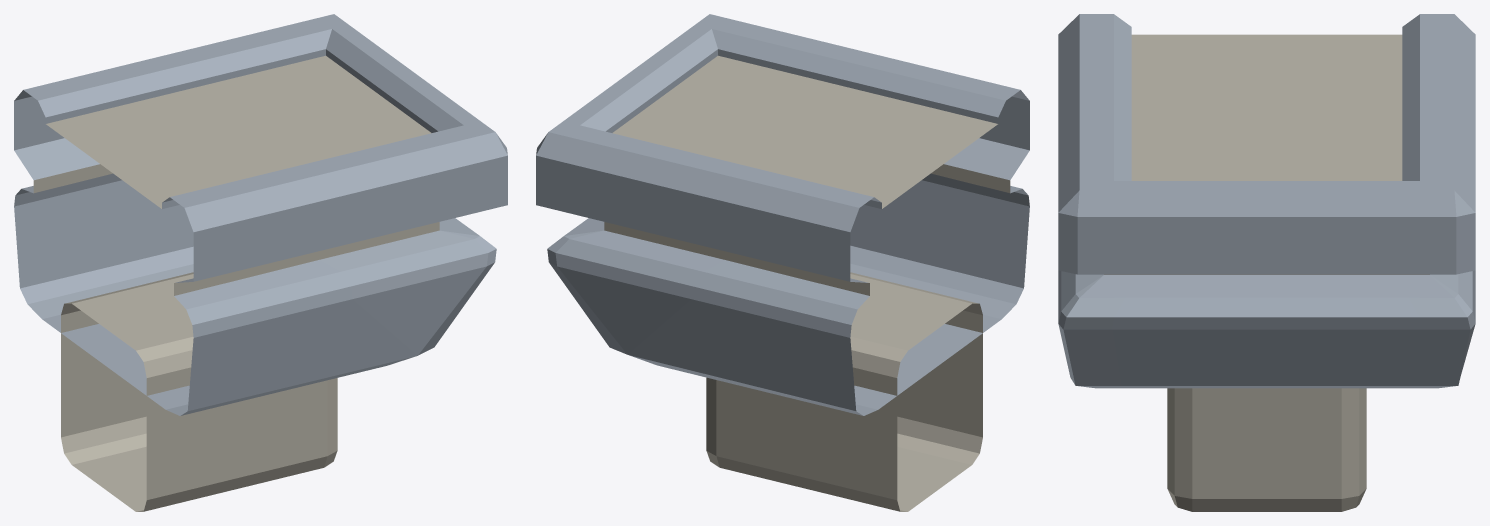
Rendered from SM_GargoyleWallStand.fbx.
3 views of the same model, side by side, from view 1: azimuth 30°, elevation 25°; view 2: azimuth 150°, elevation 25°; view 3: azimuth 270°, elevation 25° (orthographic). The views are drawn at different scales.
Visible parts, largest first — view 1: SM_GargoyleWallStand; view 2: SM_GargoyleWallStand; view 3: SM_GargoyleWallStand.
Part boxes in pixels (<box>): SM_GargoyleWallStand: <box>14,14,507,511</box>; SM_GargoyleWallStand: <box>536,14,1029,511</box>; SM_GargoyleWallStand: <box>1058,14,1475,511</box>.
Bounding box in the file's own units: 551 × 556 × 533.
